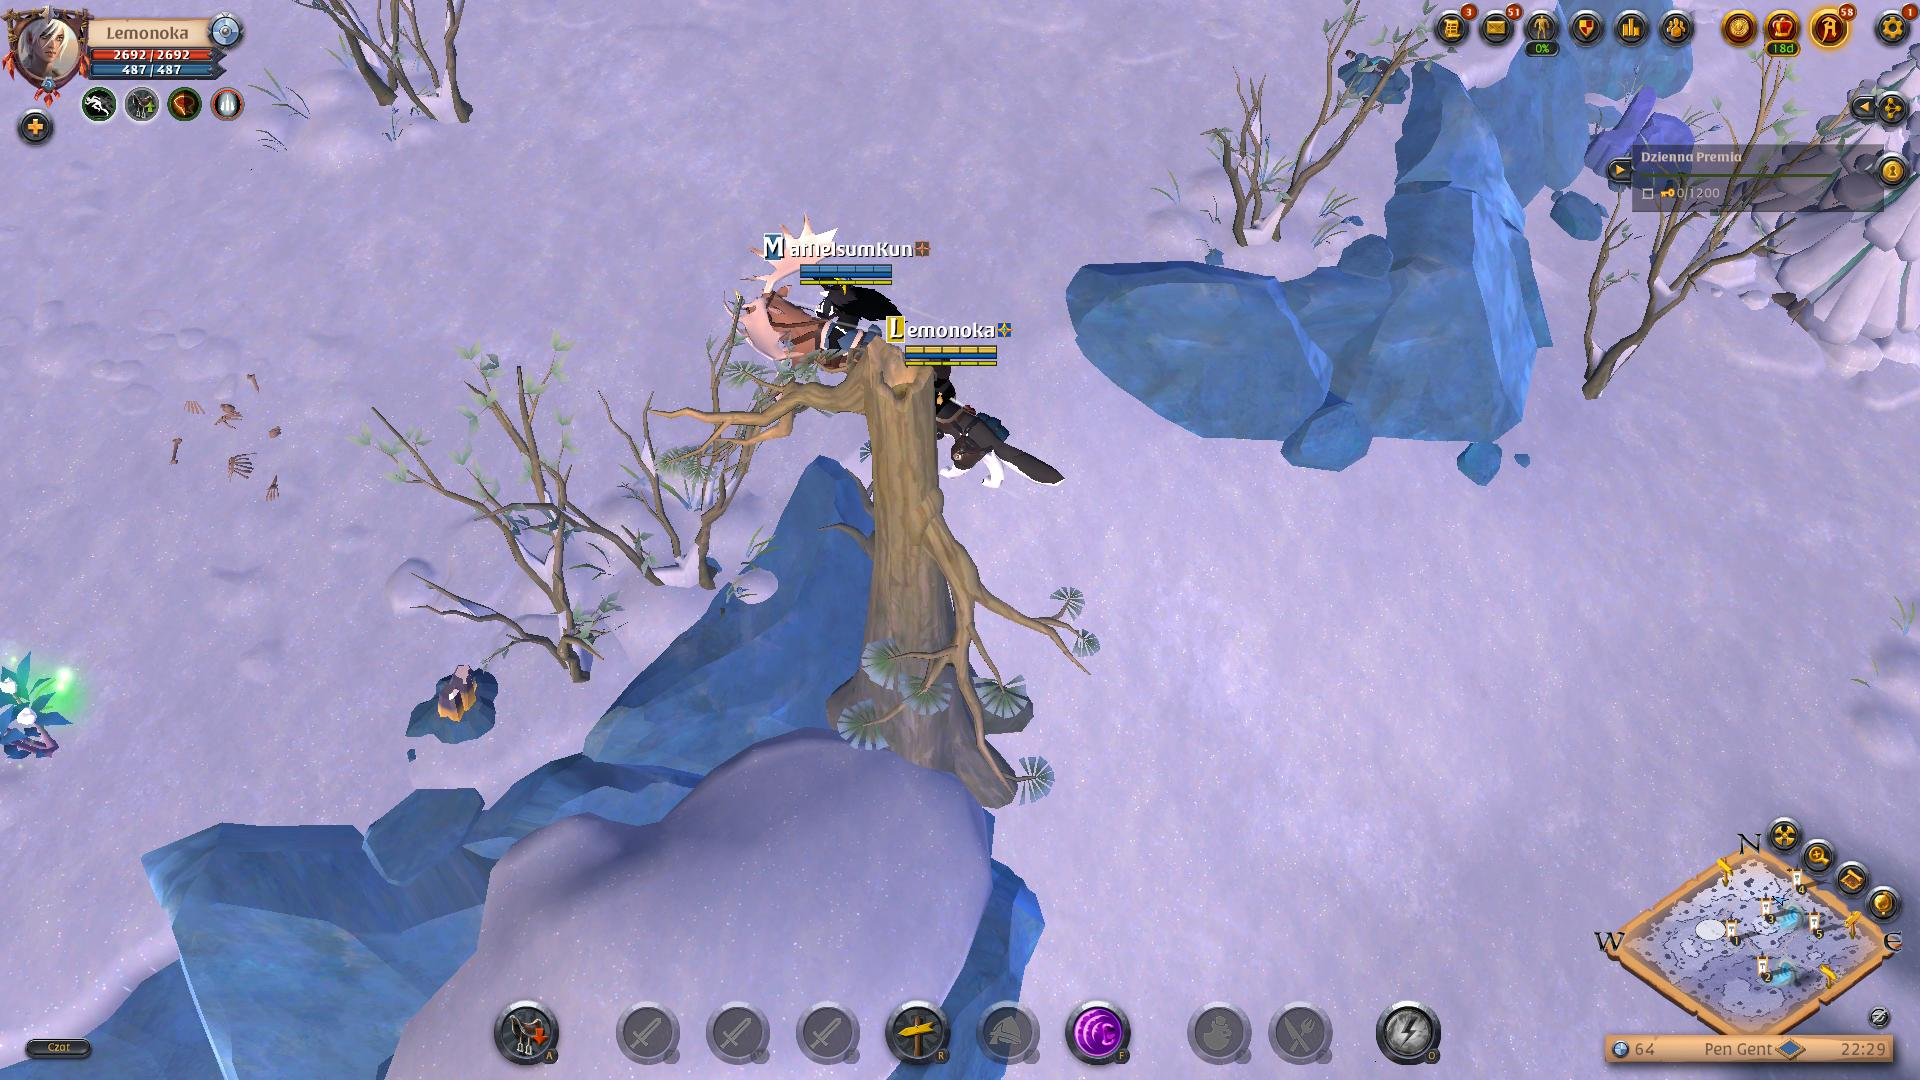ore tier 2: (404, 658, 500, 746)
